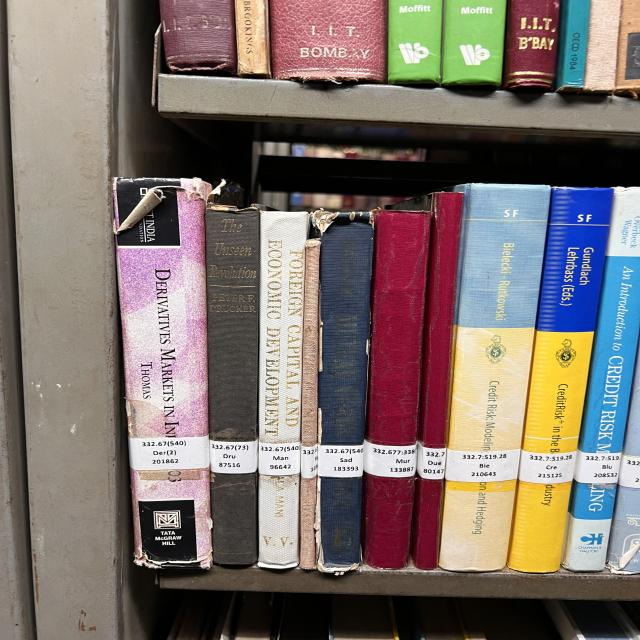Book: (508, 188, 613, 572), (113, 178, 212, 569), (562, 188, 640, 571), (390, 192, 463, 570), (363, 210, 430, 569), (317, 211, 373, 575), (205, 205, 260, 565), (258, 211, 310, 569), (298, 239, 320, 570)
Label: (128, 436, 210, 470), (445, 449, 520, 482), (363, 440, 417, 478), (518, 450, 577, 484), (573, 450, 622, 484), (210, 440, 258, 474), (317, 445, 363, 478), (258, 442, 300, 476), (417, 442, 447, 480), (300, 445, 318, 479)
